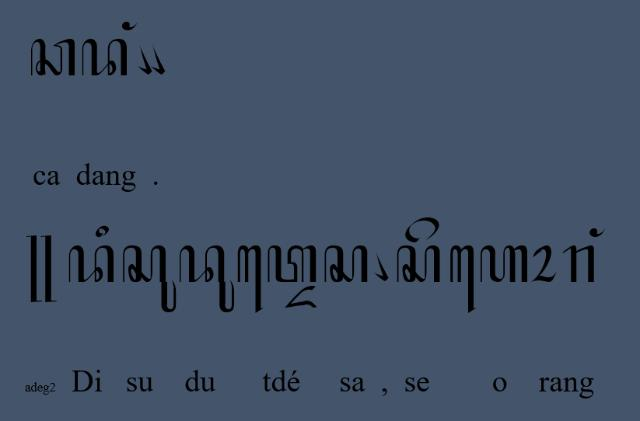_d: (284, 284, 318, 310)
adeg2: (27, 234, 58, 304)
c: (30, 36, 76, 76)
d: (68, 244, 114, 284), (80, 38, 128, 76)
du: (179, 244, 235, 314)
e: (404, 217, 440, 244)
e1: (236, 245, 264, 315), (449, 244, 477, 314)
h: (479, 244, 528, 284)
i: (94, 225, 110, 239)
kom: (372, 252, 390, 284), (149, 42, 165, 76), (136, 44, 152, 76)
ng: (588, 226, 606, 240), (121, 20, 139, 32)
o: (531, 244, 557, 284)
r: (562, 244, 596, 284)
s: (323, 243, 369, 284), (396, 244, 442, 284)
su: (122, 245, 178, 313)
t: (266, 244, 318, 284)
